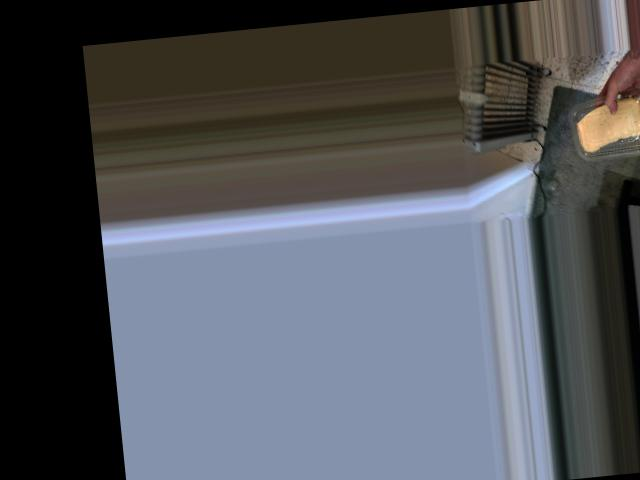cheese: (564, 89, 640, 161)
